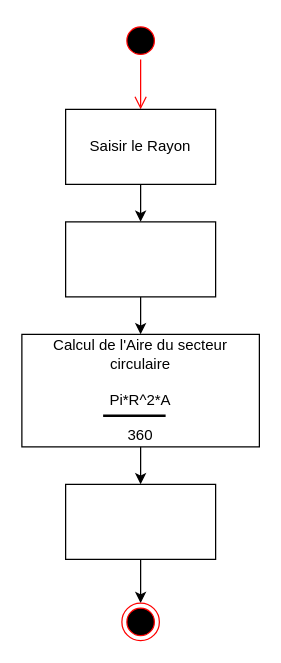
Some shapes in this 281 by 663 pixel diagram are drawn without their labels. Here are the shapes that lost their labels. From the top down, the centre of each, then its label:
At (x=140, y=259): "Saisir l'Angle".
At (x=140, y=521): "Afficher le ésultat Aire".
